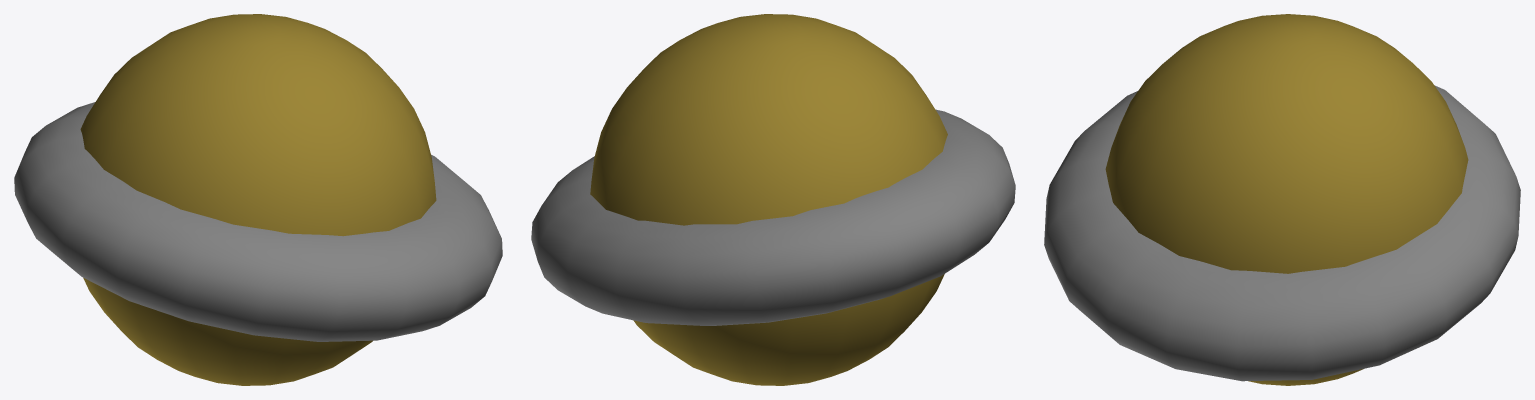
The model's file is textureModels.obj.
3 views of the same model, side by side, from view 1: azimuth 30°, elevation 25°; view 2: azimuth 150°, elevation 25°; view 3: azimuth 270°, elevation 25° (orthographic).
Parts seen in each view (by area): view 1: pSphere1, pTorus3; view 2: pSphere1, pTorus3; view 3: pSphere1, pTorus3.
Boxes of the visible parts, left/top/right/bottom form: pSphere1: left=80, top=14, right=436, bottom=385; pTorus3: left=14, top=102, right=502, bottom=341; pSphere1: left=590, top=14, right=947, bottom=385; pTorus3: left=531, top=109, right=1015, bottom=325; pSphere1: left=1105, top=14, right=1468, bottom=385; pTorus3: left=1044, top=85, right=1520, bottom=381.
Size of the model in its own units: 23.59 by 18.13 by 23.21.
